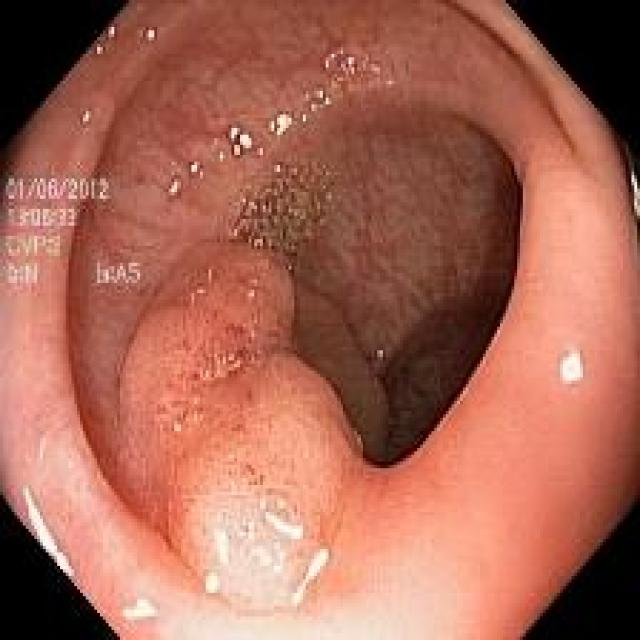Polyps: (119, 245, 364, 611)
